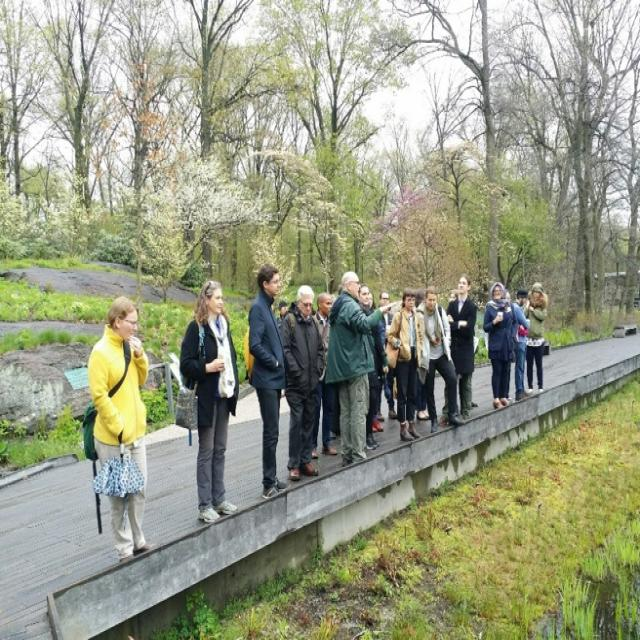body: (80, 292, 161, 576), (173, 276, 241, 524), (323, 267, 399, 471), (245, 260, 292, 502), (278, 282, 326, 483), (414, 286, 467, 435), (436, 274, 479, 428), (384, 286, 424, 442), (354, 284, 389, 452), (310, 290, 340, 461), (482, 281, 519, 412), (520, 280, 549, 396), (376, 290, 399, 423), (508, 285, 533, 403), (369, 290, 385, 433), (242, 300, 256, 390), (281, 298, 319, 320), (329, 377, 340, 441), (274, 298, 290, 329), (414, 288, 426, 310), (412, 288, 425, 308), (447, 286, 459, 304), (328, 293, 340, 308), (503, 286, 513, 303)
